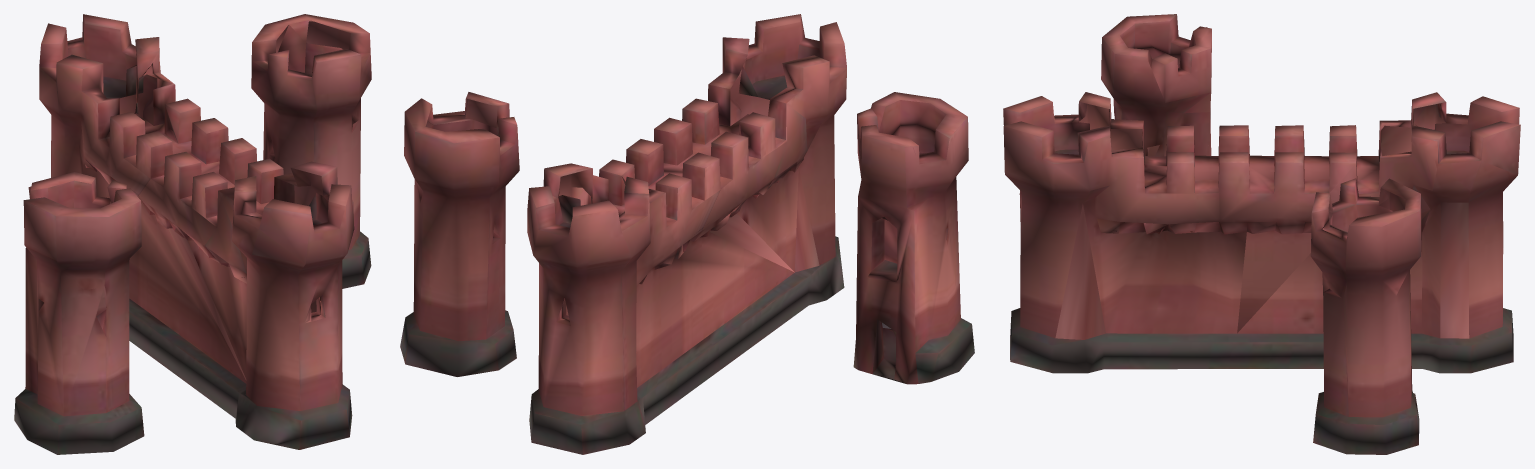
Rendered from lg-castle-wall.glb.
The picture shows the model from 3 angles, left to right: view 1: azimuth 30°, elevation 25°; view 2: azimuth 150°, elevation 25°; view 3: azimuth 270°, elevation 25°; orthographic projection. The views are drawn at different scales.
Parts seen in each view (by area): view 1: geometry_0; view 2: geometry_0; view 3: geometry_0.
Part boxes in pixels (x1=…): geometry_0: x1=14, y1=14, x2=371, y2=454; geometry_0: x1=400, y1=14, x2=974, y2=454; geometry_0: x1=1003, y1=14, x2=1520, y2=454.
Size of the model in its own units: 0.9656 by 0.4986 by 1.
1 material, 1 textured.
